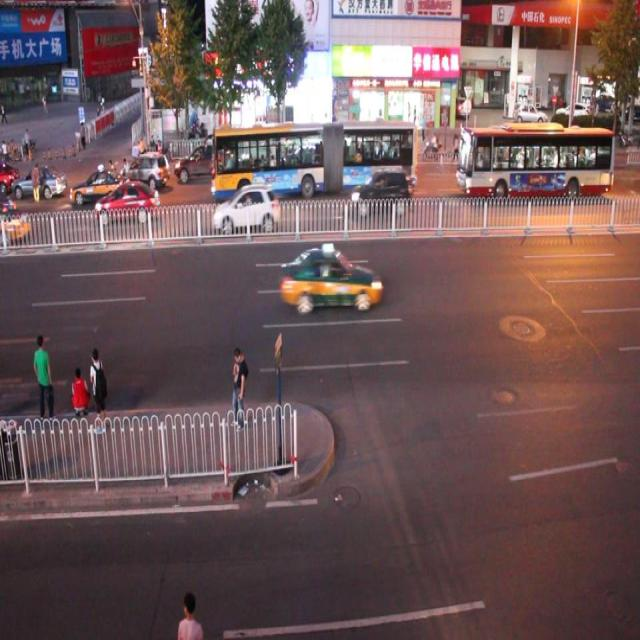car: (281, 248, 381, 312), (213, 184, 279, 234), (349, 169, 412, 216), (95, 180, 159, 224), (174, 142, 224, 182), (70, 170, 126, 205), (122, 152, 170, 190), (11, 167, 67, 199), (276, 144, 321, 176), (0, 197, 32, 242), (1, 159, 21, 193)
van: (210, 120, 417, 202), (454, 123, 612, 201)
